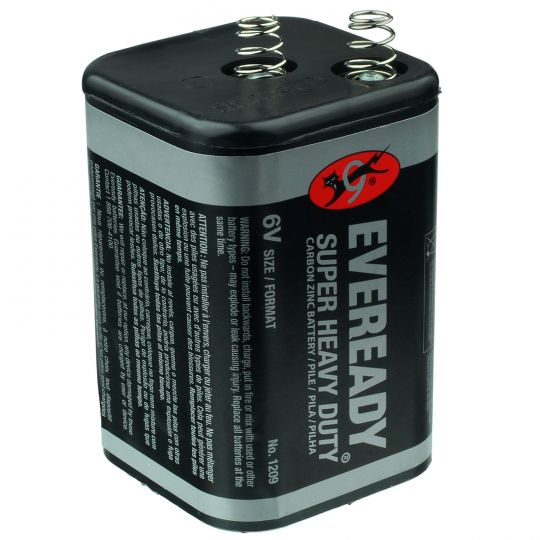6V: (73, 18, 448, 534)
